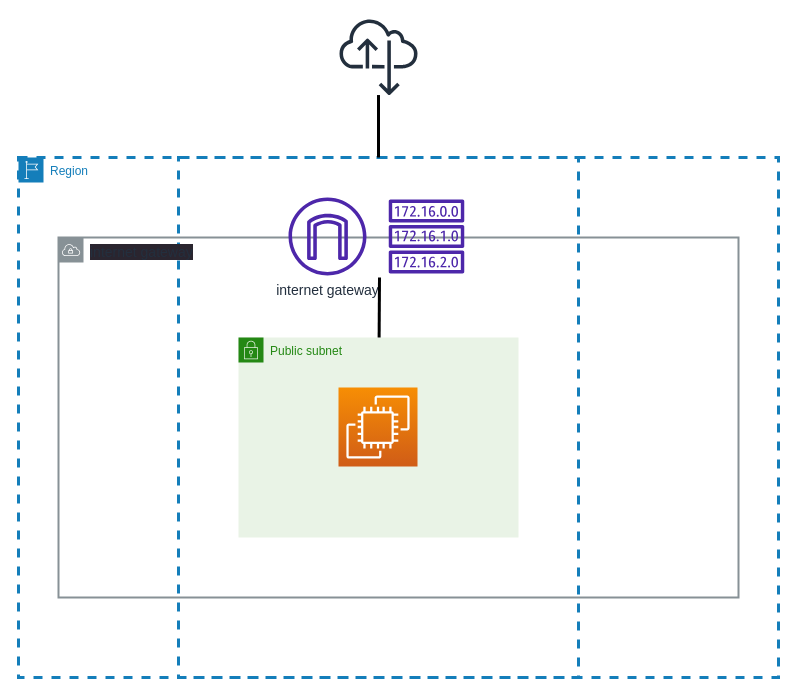
This 797x696 diagram has some shape labels left out. The shapes that lost their labels are listed below. From the top down, each one's box as (x1, y1, x2, y2) in pixels, then its label:
(388, 199, 464, 273): route table
(176, 156, 580, 678): Availability Zone
